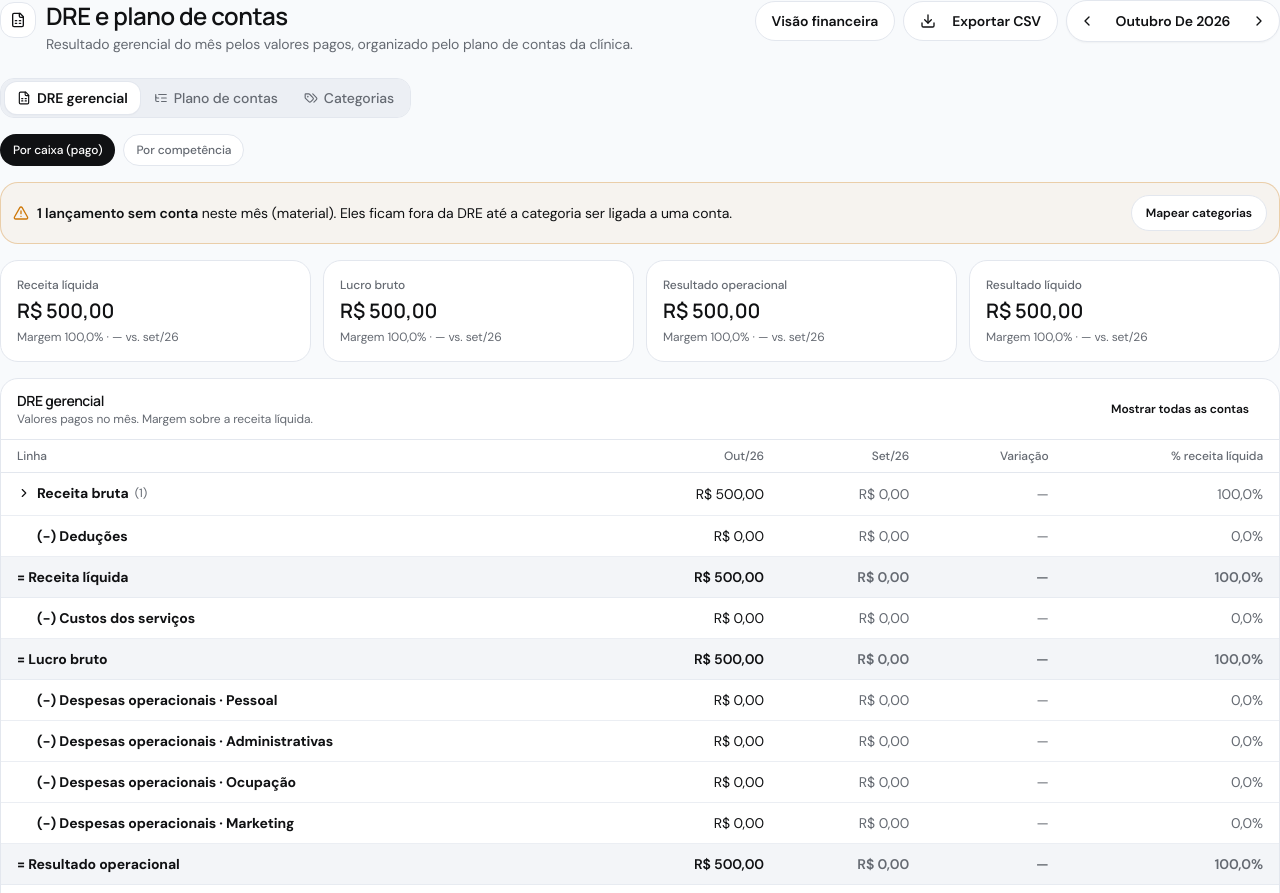
Test: DrePlanoContas › mostra a cascata, avisa o lançamento sem conta e leva ao mapeamento
Check: the heading "DRE e plano de contas" is shown, box x1=46 y1=0 x2=288 y2=32
Check: the message shows "1 lançamento sem conta", box x1=37 y1=204 x2=198 y2=222
Click the button "Receita bruta (1)". click: (82, 493)
box: x1=17 y1=483 x2=147 y2=503
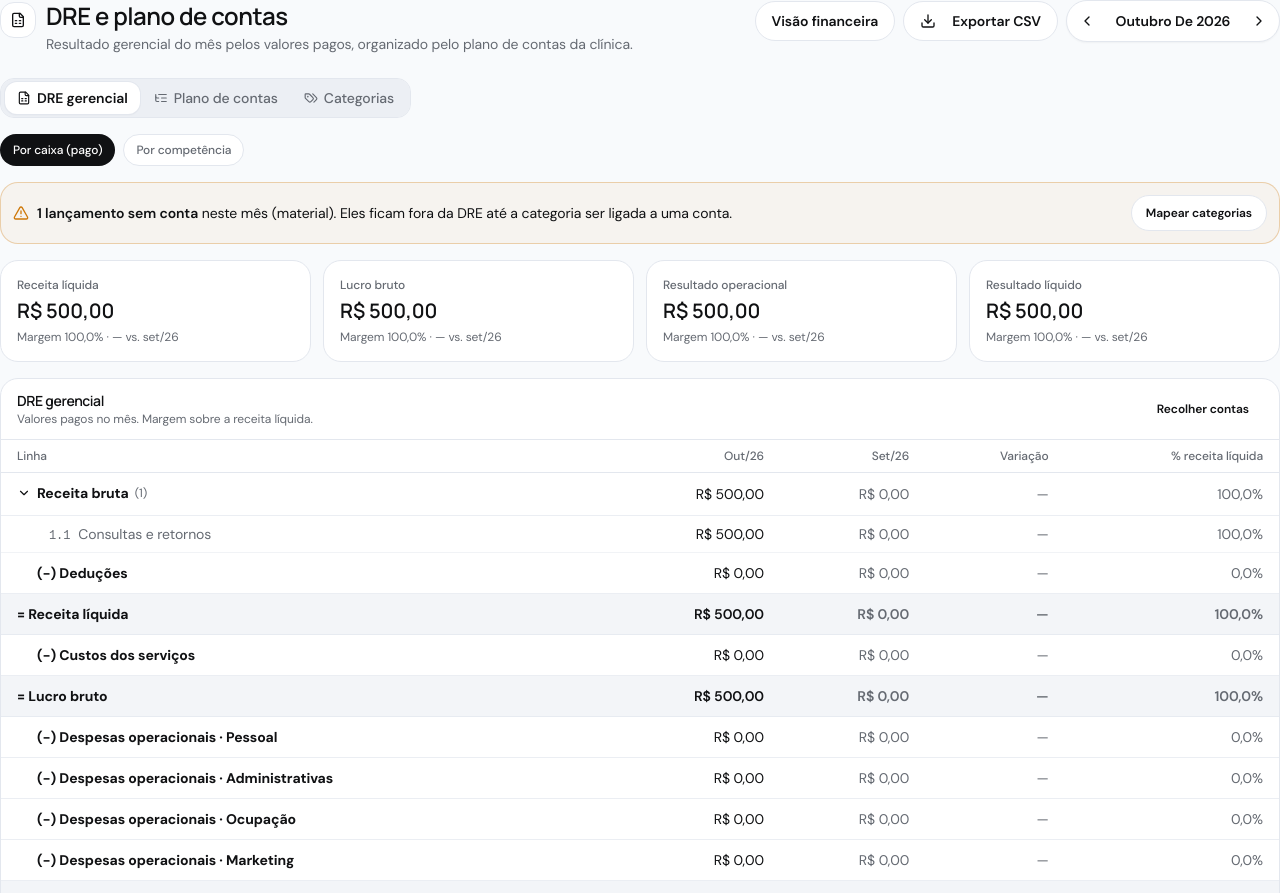
Check: the row named "1.1 Consultas e retornos" is shown, box x1=1 y1=516 x2=1279 y2=552
Click the button "Mapear categorias". click: (1199, 213)
box: x1=1131 y1=195 x2=1267 y2=231
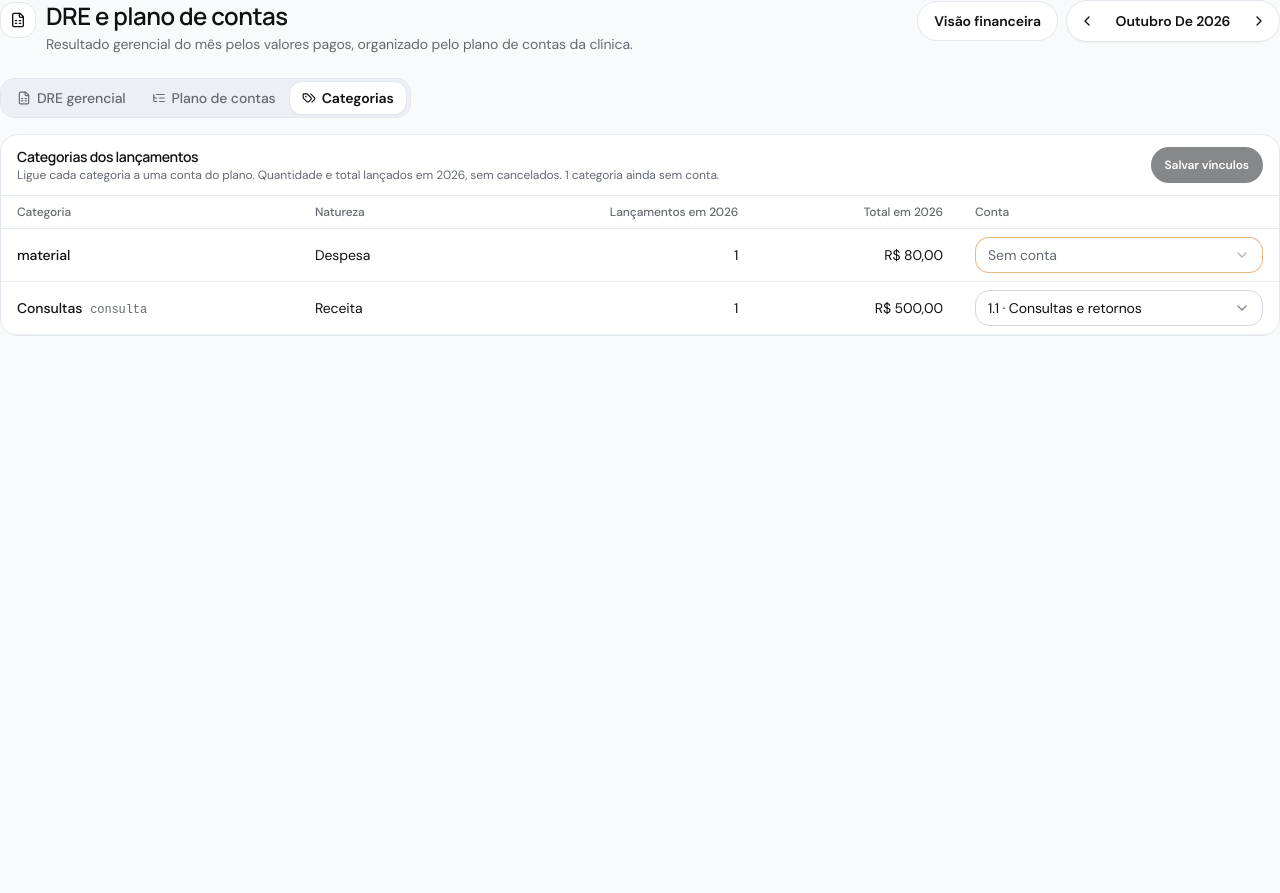
Check: the heading "Categorias dos lançamentos" is shown, box x1=17 y1=147 x2=198 y2=166
Check: the dropdown named "Conta da categoria material (despesa)" reads "Sem conta", box x1=975 y1=237 x2=1263 y2=273
Check: the dropdown named "Conta da categoria Consultas (receita)" reads "1.1 · Consultas e retornos", box x1=975 y1=290 x2=1263 y2=326
